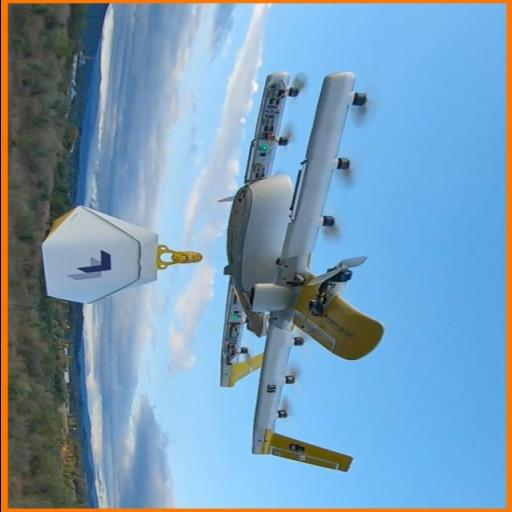uav: (206, 67, 404, 477)
